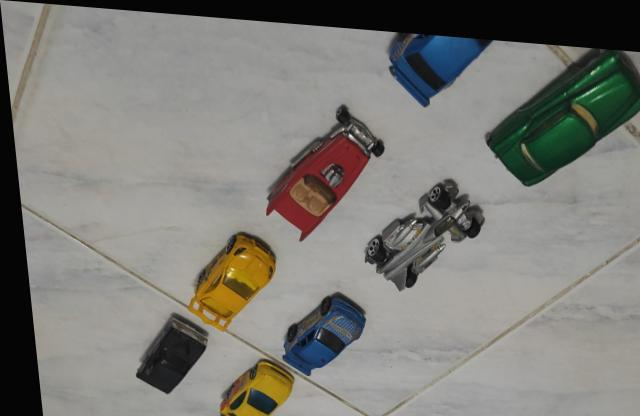01_FORD: (127, 312, 202, 394)
02_OZSOME: (210, 356, 287, 416)
03_V8: (260, 98, 383, 238)
04_MERZEDES: (386, 25, 492, 99), (274, 289, 361, 372)
05_DC121: (359, 169, 482, 284)
06_MASERATI: (482, 38, 640, 177)
07_RHLTURBO: (180, 229, 272, 330)
